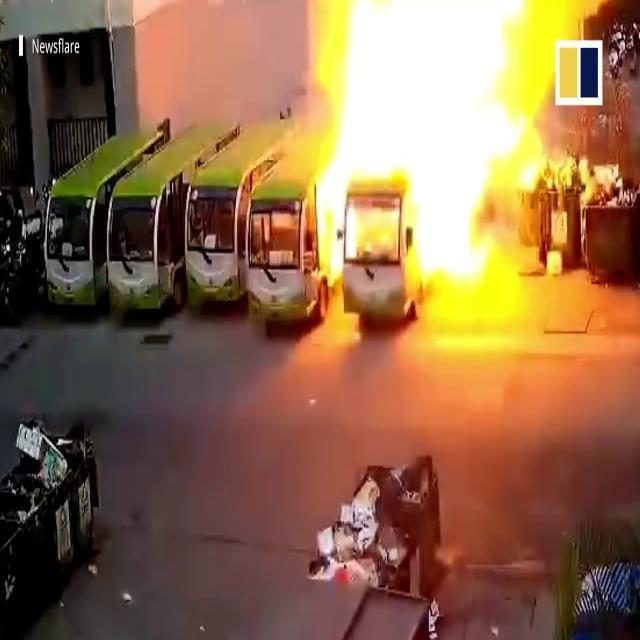Fire: (302, 0, 558, 326)
